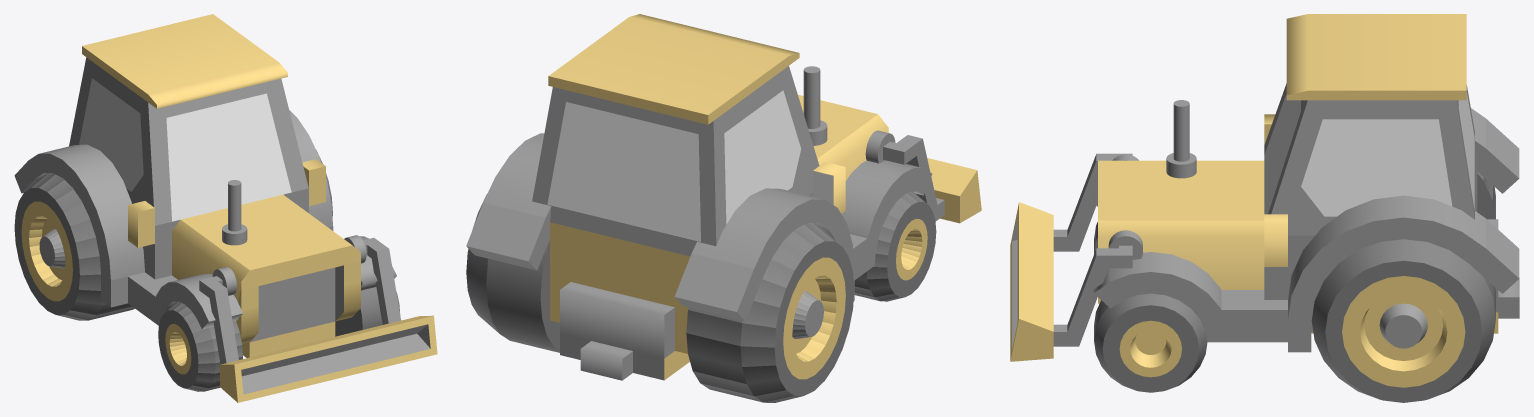
File: tractorShovel.dae
The picture shows the model from 3 angles, left to right: view 1: azimuth 30°, elevation 25°; view 2: azimuth 150°, elevation 25°; view 3: azimuth 270°, elevation 25°; orthographic projection. The views are drawn at different scales.
Visible parts, largest first — view 1: body, shovel, skirts, wheel_backLeft, wheel_frontLeft, wheel_frontRight; view 2: body, skirts, wheel_backLeft, wheel_backRight, wheel_frontLeft, shovel; view 3: body, skirts, wheel_backRight, shovel, wheel_frontRight, wheel_backLeft.
Part boxes in pixels (x1,y1,x2,y2): body: (69, 14, 360, 357); shovel: (199, 235, 437, 402); skirts: (14, 110, 396, 329); wheel_backLeft: (14, 173, 134, 320); wheel_frontLeft: (158, 301, 242, 391); wheel_frontRight: (335, 287, 399, 336); body: (532, 14, 888, 380); skirts: (466, 133, 932, 321); wheel_backLeft: (686, 223, 854, 402); wheel_backRight: (466, 194, 559, 352); wheel_frontLeft: (854, 191, 936, 301); shovel: (865, 130, 981, 223); body: (1098, 14, 1519, 333); skirts: (1093, 108, 1519, 352); wheel_backRight: (1311, 239, 1495, 402); shovel: (1010, 153, 1142, 361); wheel_frontRight: (1094, 293, 1207, 392); wheel_backLeft: (1477, 171, 1495, 219).
Size of the model in its own units: 1.66 by 2.41 by 1.51.
